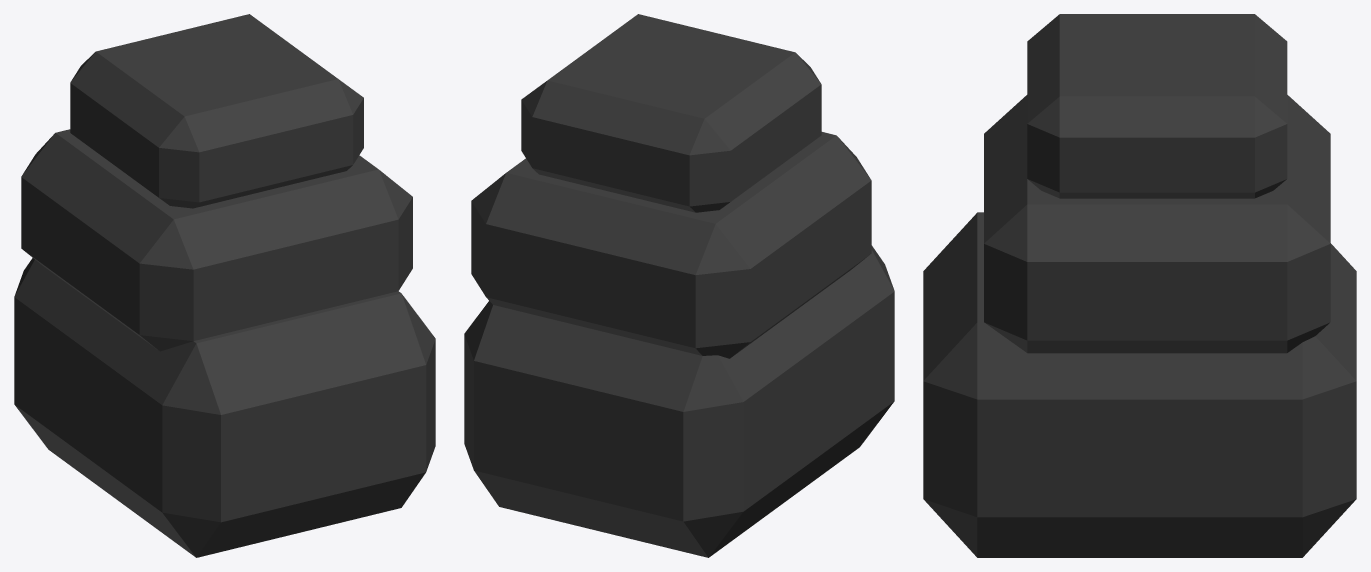
File: rock.gltf
3 renders of one model, left to right at view 1: azimuth 30°, elevation 25°; view 2: azimuth 150°, elevation 25°; view 3: azimuth 270°, elevation 25°, orthographic. The views are drawn at different scales.
Visible parts, largest first — view 1: rounded_cuboid (×3); view 2: rounded_cuboid (×3); view 3: rounded_cuboid (×3).
Part boxes in pixels (x1,y1,x2,y2): rounded_cuboid (×3): [14, 14, 435, 557]; rounded_cuboid (×3): [464, 14, 894, 557]; rounded_cuboid (×3): [923, 14, 1356, 557].
Bounding box in the file's own units: 0.5 × 0.7125 × 0.625.
Materials: 1 (1 with a texture image).
